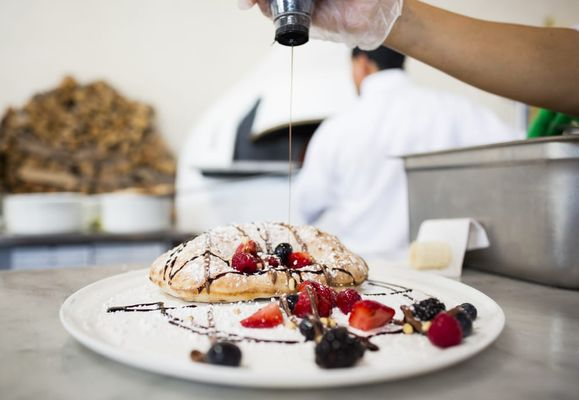soup: (150, 220, 370, 302)
